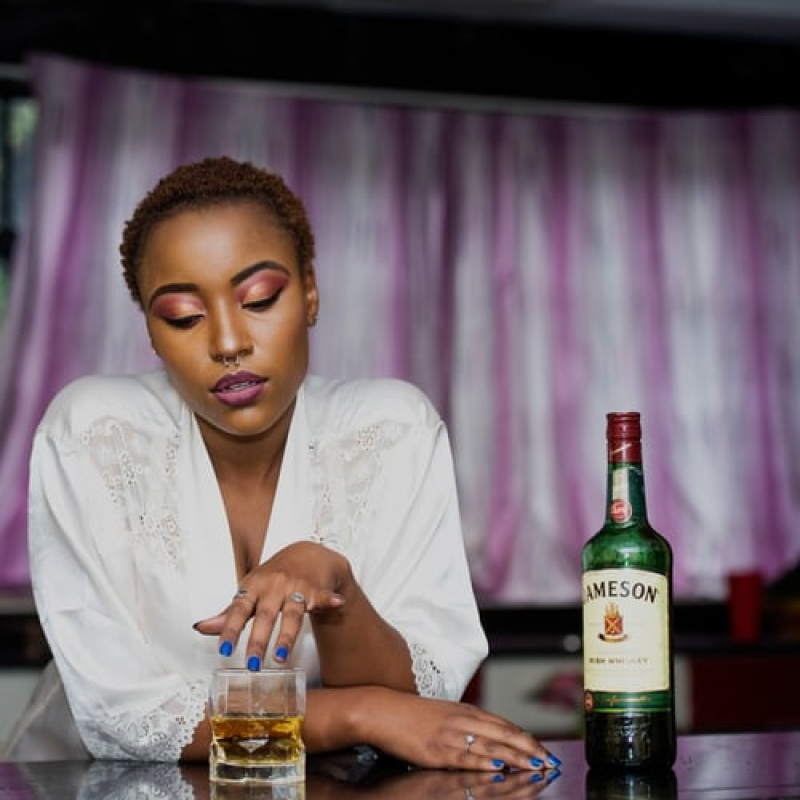whiskey: (212, 657, 310, 796)
